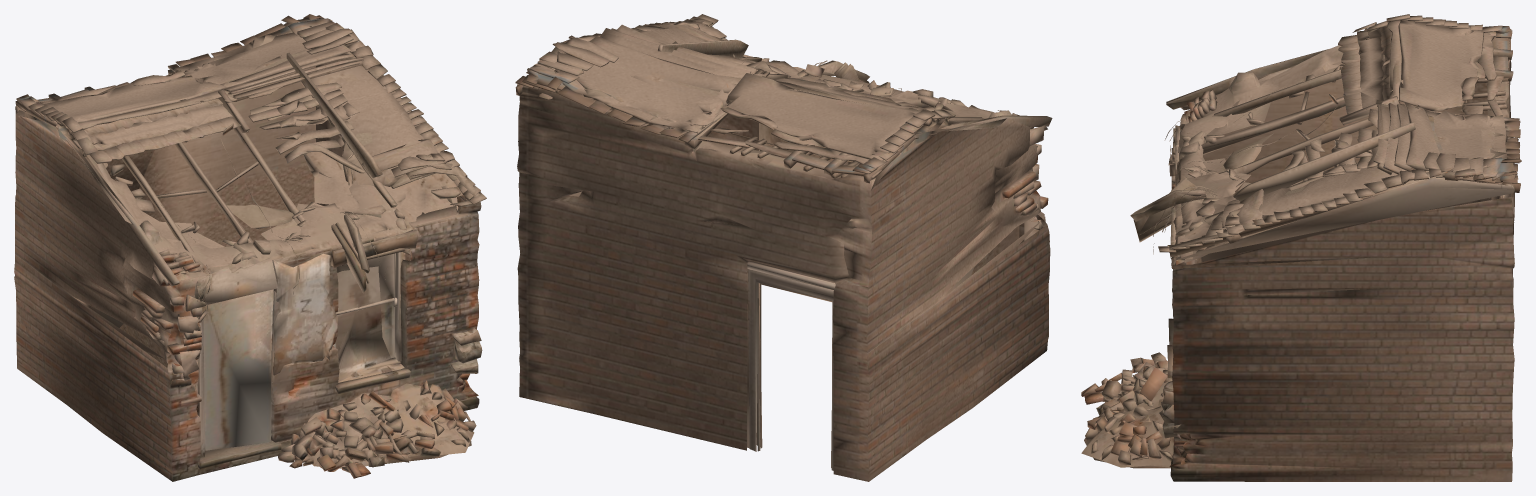
The model's file is hut.glb.
3 views of the same model, side by side, from view 1: azimuth 30°, elevation 25°; view 2: azimuth 150°, elevation 25°; view 3: azimuth 270°, elevation 25° (orthographic). The views are drawn at different scales.
Visible parts, largest first — view 1: hut; view 2: hut; view 3: hut.
Part boxes in pixels (x1,y1,x2,y2): hut: (14, 14, 486, 481); hut: (515, 14, 1052, 481); hut: (1081, 14, 1521, 481).
Size of the model in its own units: 3.67 by 3.3 by 4.1.
1 material, 1 textured.
